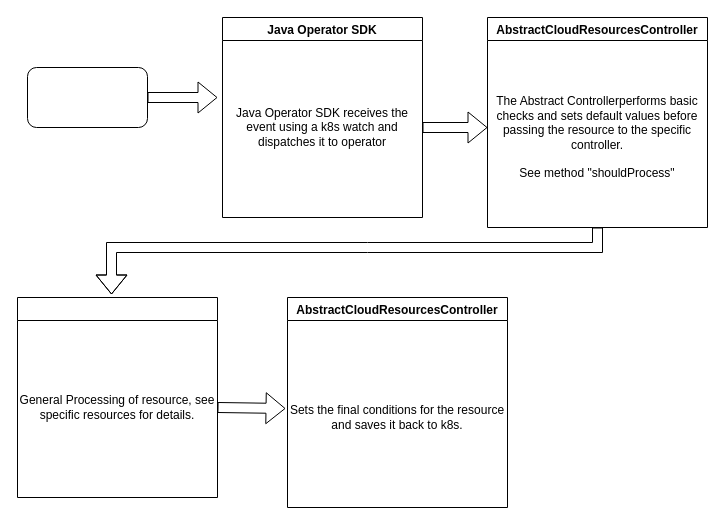
Image size: 725x525. Some labels were removed from this diagram. Each missing label, with the box of its shape:
Specific Controller: (16, 296, 218, 498)
User Creates Custom Resource: (26, 66, 148, 128)
